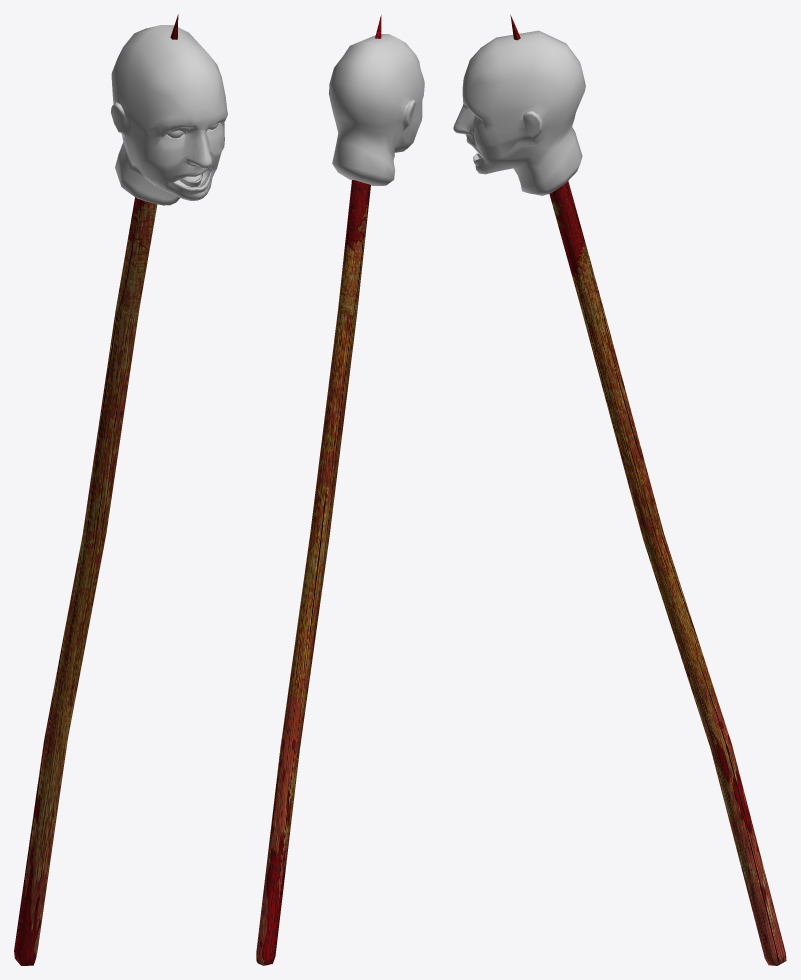
The model's file is severed_exp_07.fbx.
3 renders of one model, left to right at view 1: azimuth 30°, elevation 25°; view 2: azimuth 150°, elevation 25°; view 3: azimuth 270°, elevation 25°, orthographic. The views are drawn at different scales.
Parts seen in each view (by area): view 1: severed_exp_07; view 2: severed_exp_07; view 3: severed_exp_07.
Part boxes in pixels (x1,y1,x2,y2): severed_exp_07: (14,14,227,965); severed_exp_07: (256,15,424,965); severed_exp_07: (453,15,786,965).
Bounding box in the file's own units: 0.2194 × 2.18 × 0.6892.
